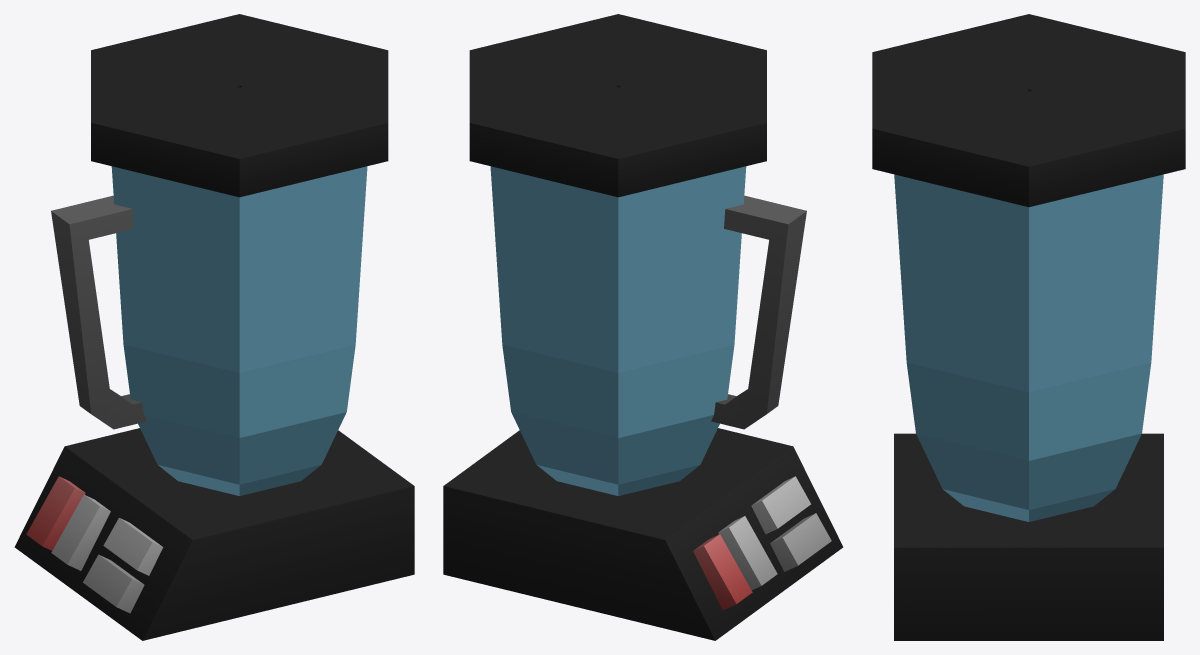
File: frullatore.fbx
The picture shows the model from 3 angles, left to right: view 1: azimuth 30°, elevation 25°; view 2: azimuth 150°, elevation 25°; view 3: azimuth 270°, elevation 25°; orthographic projection. The views are drawn at different scales.
Visible parts, largest first — view 1: frullatore; view 2: frullatore; view 3: frullatore.
Part boxes in pixels (x1,y1,x2,y2): frullatore: [14, 14, 414, 640]; frullatore: [443, 14, 843, 640]; frullatore: [872, 14, 1185, 640].
Bounding box in the file's own units: 69.73 × 95.15 × 54.72.
